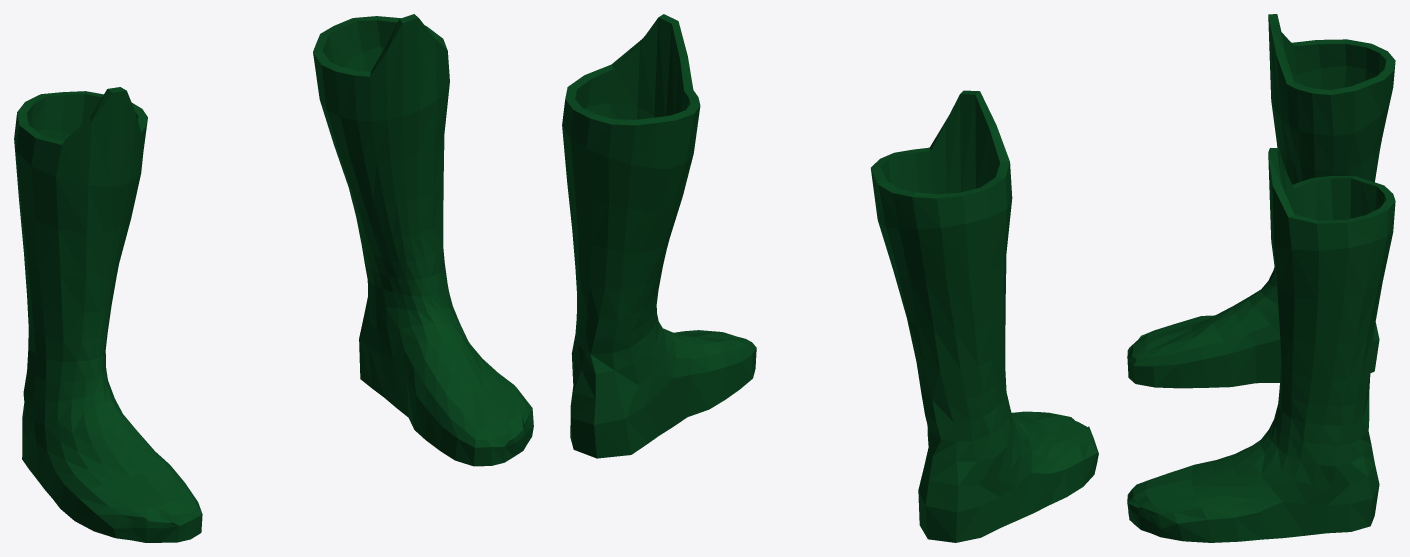
Rendered from mhw_culturalibre_hero_boots_3.glb.
3 renders of one model, left to right at view 1: azimuth 30°, elevation 25°; view 2: azimuth 150°, elevation 25°; view 3: azimuth 270°, elevation 25°, orthographic. The views are drawn at different scales.
Visible parts, largest first — view 1: mhw_culturalibre_hero_boots_3; view 2: mhw_culturalibre_hero_boots_3; view 3: mhw_culturalibre_hero_boots_3.
Part boxes in pixels (bbox=[...]): mhw_culturalibre_hero_boots_3: bbox=[14, 14, 533, 542]; mhw_culturalibre_hero_boots_3: bbox=[562, 14, 1098, 542]; mhw_culturalibre_hero_boots_3: bbox=[1127, 14, 1395, 542].
Size of the model in its own units: 0.5473 by 0.4625 by 0.3098.
Materials: 1 (1 with a texture image).
